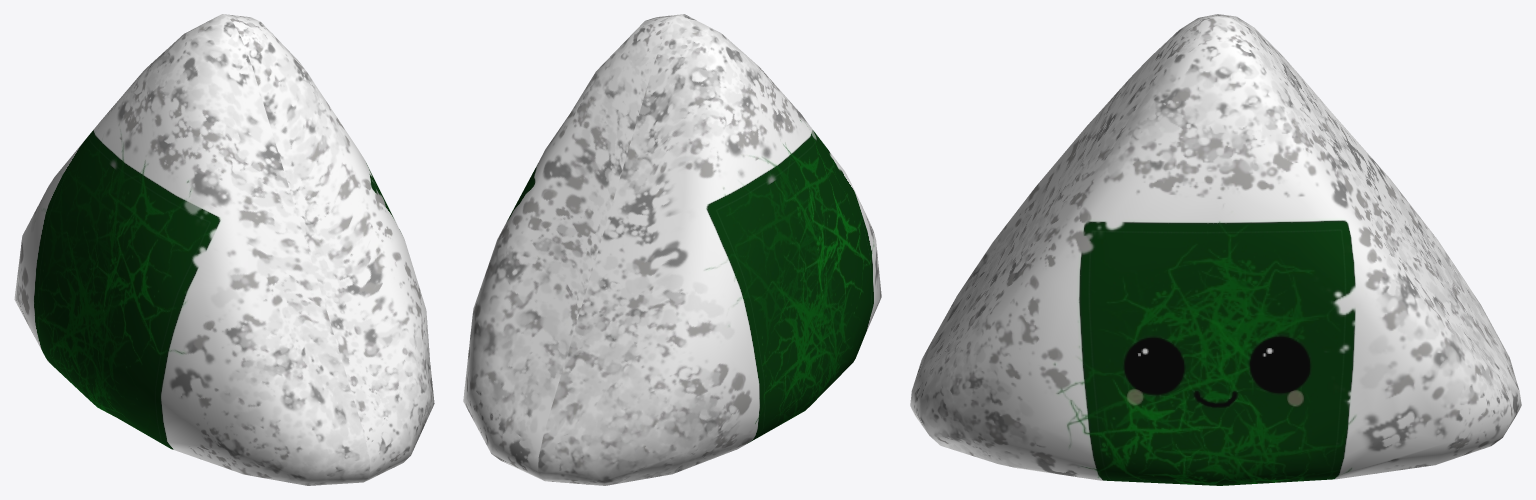
The model's file is onigiri-pozitivni.fbx.
The picture shows the model from 3 angles, left to right: view 1: azimuth 30°, elevation 25°; view 2: azimuth 150°, elevation 25°; view 3: azimuth 270°, elevation 25°; orthographic projection. The views are drawn at different scales.
Visible parts, largest first — view 1: ONIGIRI; view 2: ONIGIRI; view 3: ONIGIRI.
Part boxes in pixels (left/top/right/bottom): ONIGIRI: left=14, top=14, right=434, bottom=485; ONIGIRI: left=463, top=14, right=881, bottom=485; ONIGIRI: left=910, top=14, right=1521, bottom=485.
Bounding box in the file's own units: 46.1 × 59.11 × 80.
1 material, 1 textured.
